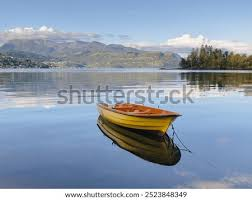boat: (96, 100, 180, 137)
